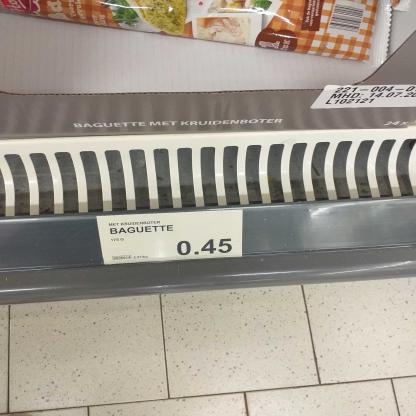prtg: (97, 210, 244, 265)
